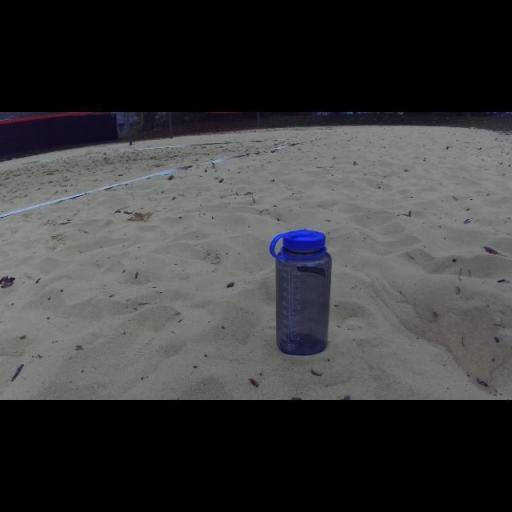bottle: (269, 228, 333, 358)
